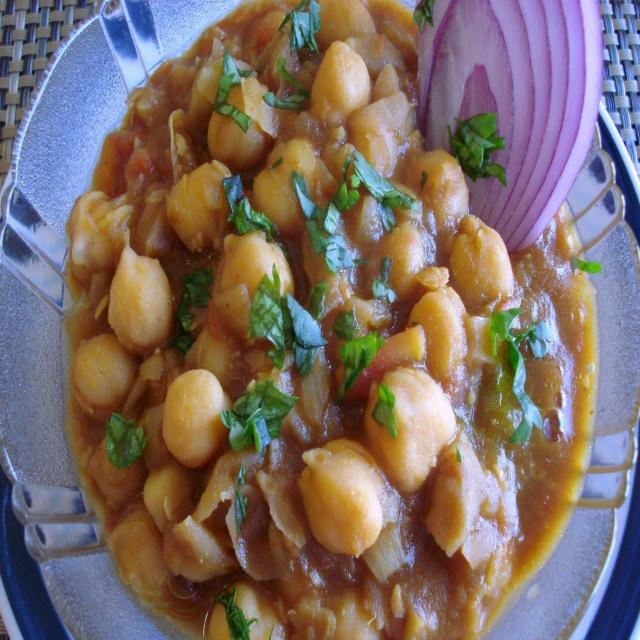Chole: (63, 0, 602, 640)
